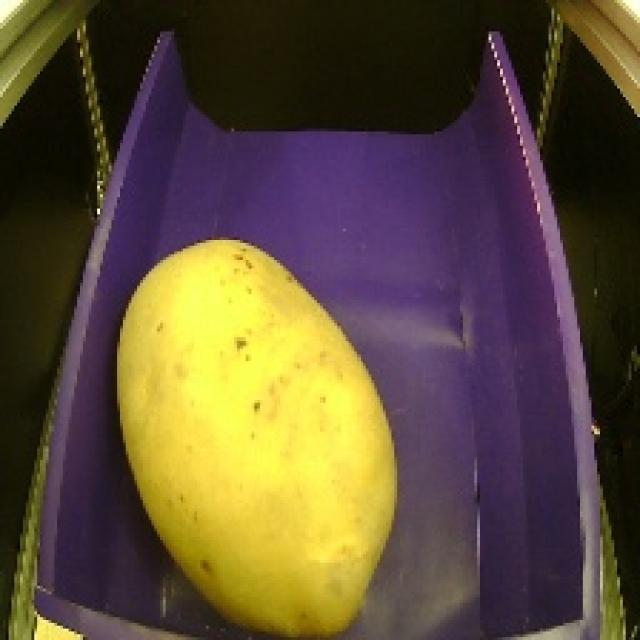full_potato: (104, 219, 406, 640)
